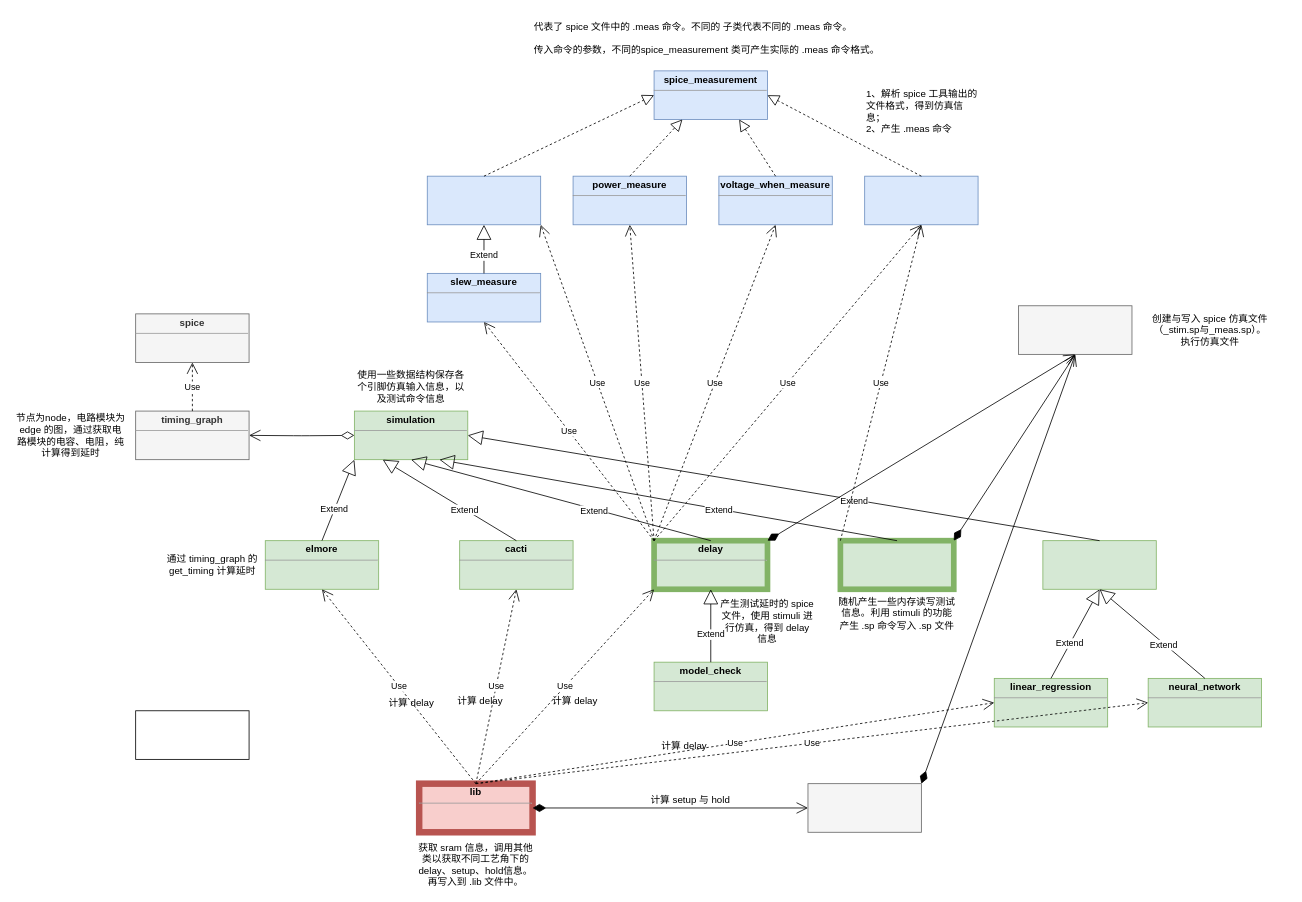
Some shapes in this 1302 by 902 pixel diagram are drawn without their labels. Here are the shapes that lost their labels. From the top down, the centre of each, then its label:
At (x=483, y=200): "delay_measure".
At (x=921, y=200): "voltage_at_measure".
At (x=1075, y=329): "stimuli".
At (x=896, y=564): "functional".
At (x=1099, y=564): "regression_model".
At (x=192, y=734): "trim_spice".
At (x=864, y=807): "setup_hold".
